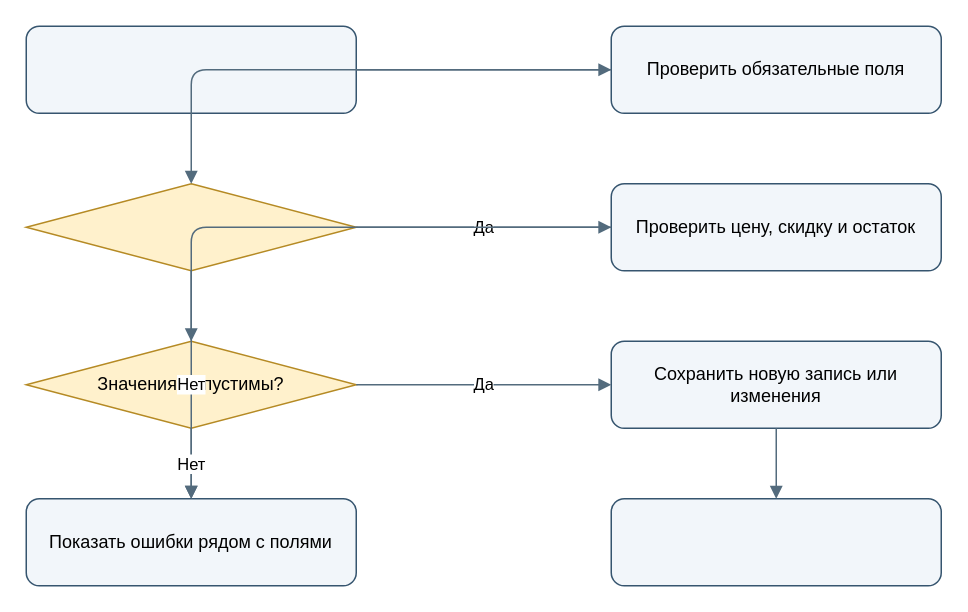
Image size: 968x612. Some labels were removed from this diagram. The centre of each missing label's shape, as x and y in pixels:
"Обновить каталог" belongs at (775,541).
"Получить значения формы" belongs at (190,69).
"Поля заполнены?" belongs at (190,226).
